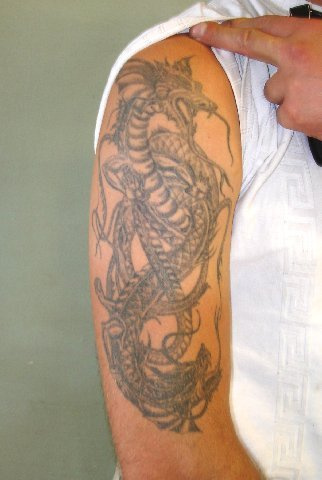tatu6_drakon: (88, 46, 231, 444)
